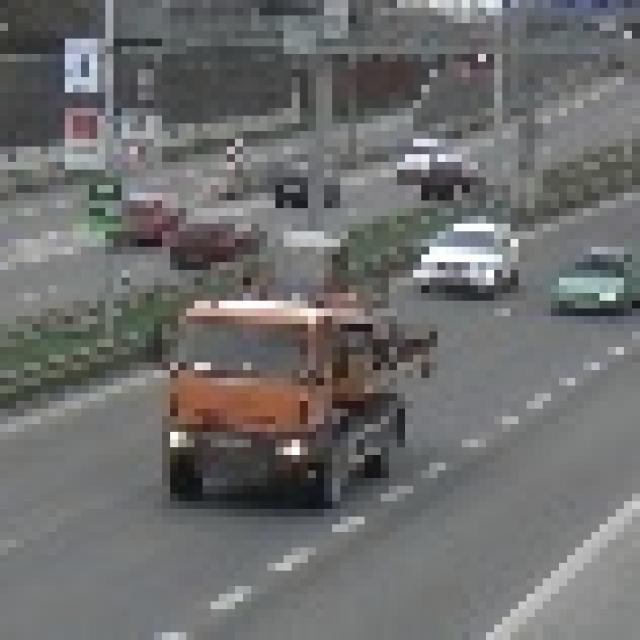truck: (147, 286, 422, 510)
